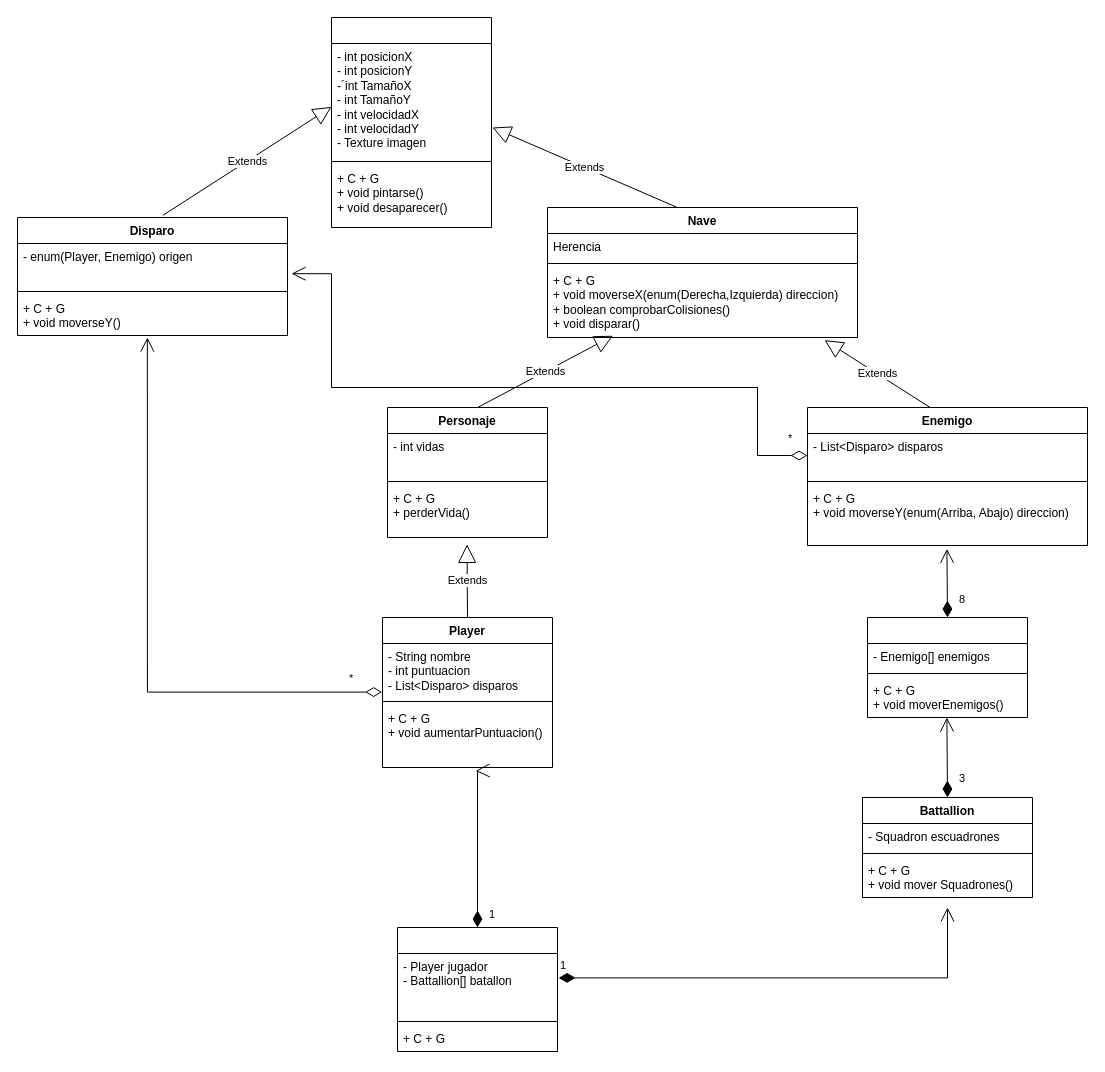
Some shapes in this 1105 by 1072 pixel diagram are drawn without their labels. The shapes that lost their labels are listed below. From the top down, each one's box as (x1, y1, x2, y2) in pixels, then its label:
(330, 16, 492, 228): ObjetoVolador
(866, 616, 1028, 718): Squadron
(396, 926, 558, 1052): Game
